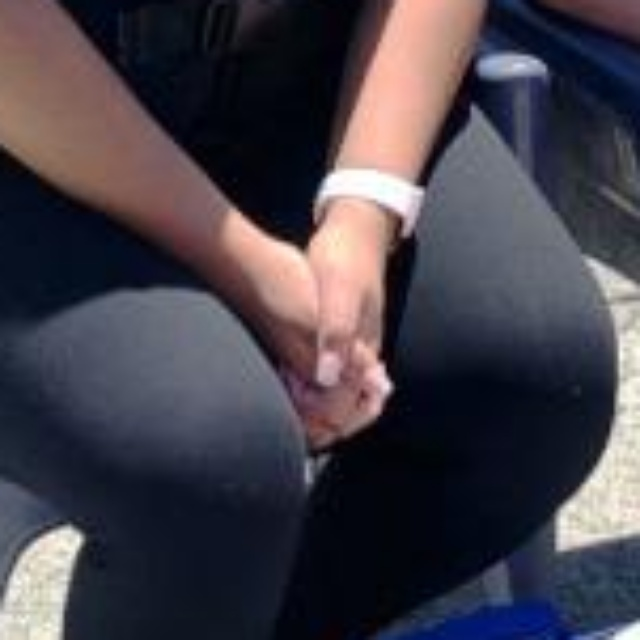thumbs_up: (228, 187, 412, 453)
